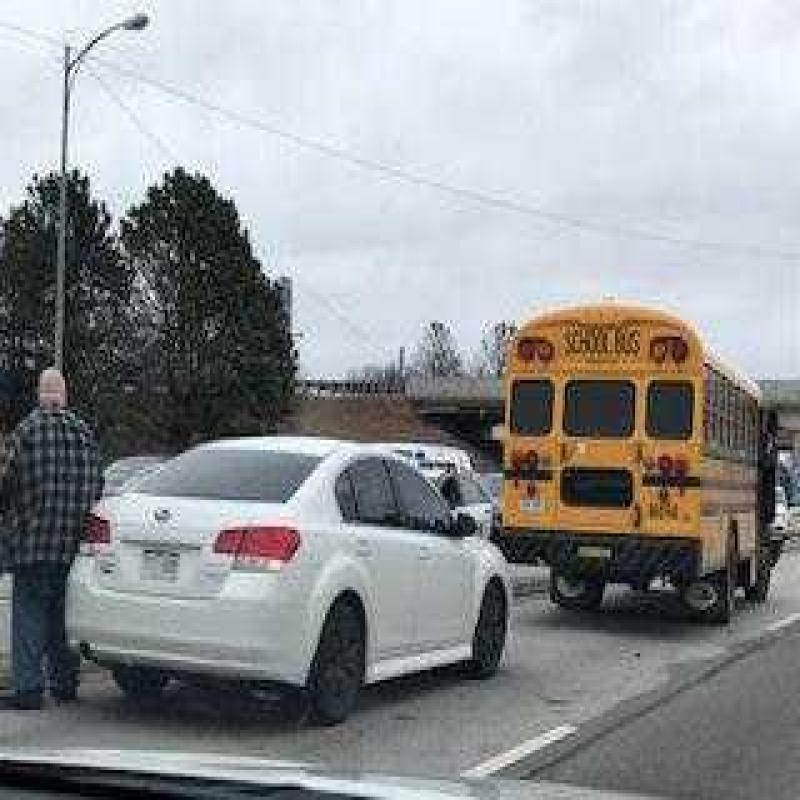bus: (490, 290, 776, 643)
